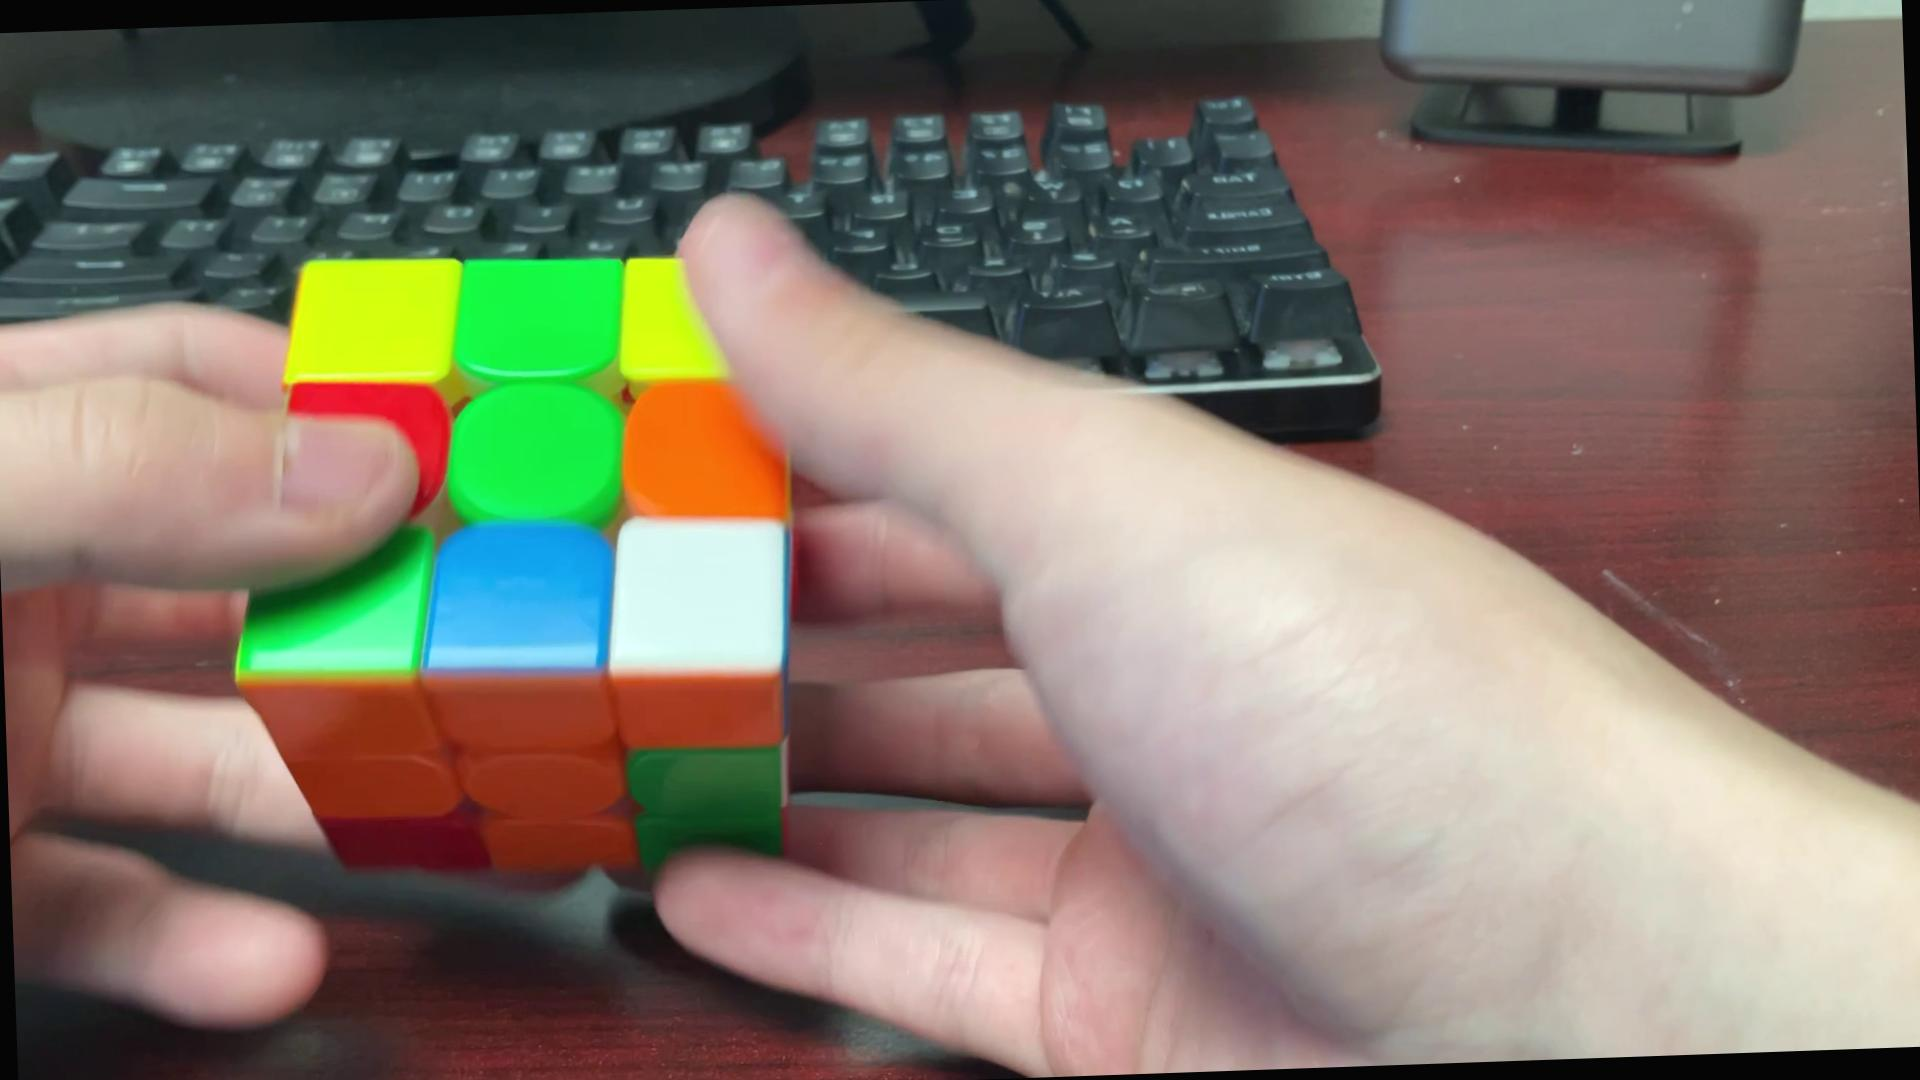Rubiks-Cube: (222, 229, 833, 887)
